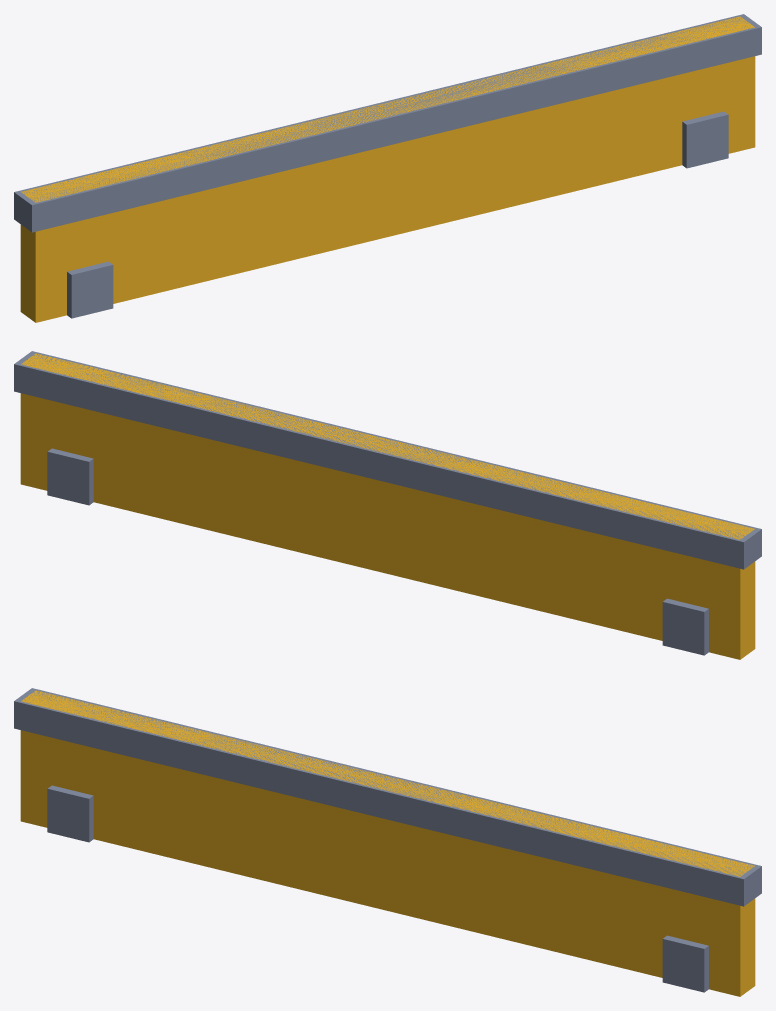
The model's file is car_gate.glb.
3 renders of one model, top to bottom at view 1: azimuth 30°, elevation 25°; view 2: azimuth 150°, elevation 25°; view 3: azimuth 330°, elevation 25°, orthographic.
Parts seen in each view (by area): view 1: car_gate; view 2: car_gate; view 3: car_gate.
Boxes of the visible parts, left/top/right/bottom form: car_gate: left=14, top=14, right=761, bottom=322; car_gate: left=14, top=351, right=761, bottom=659; car_gate: left=14, top=688, right=761, bottom=996.
Size of the model in its own units: 1.4 by 0.22 by 0.08.
